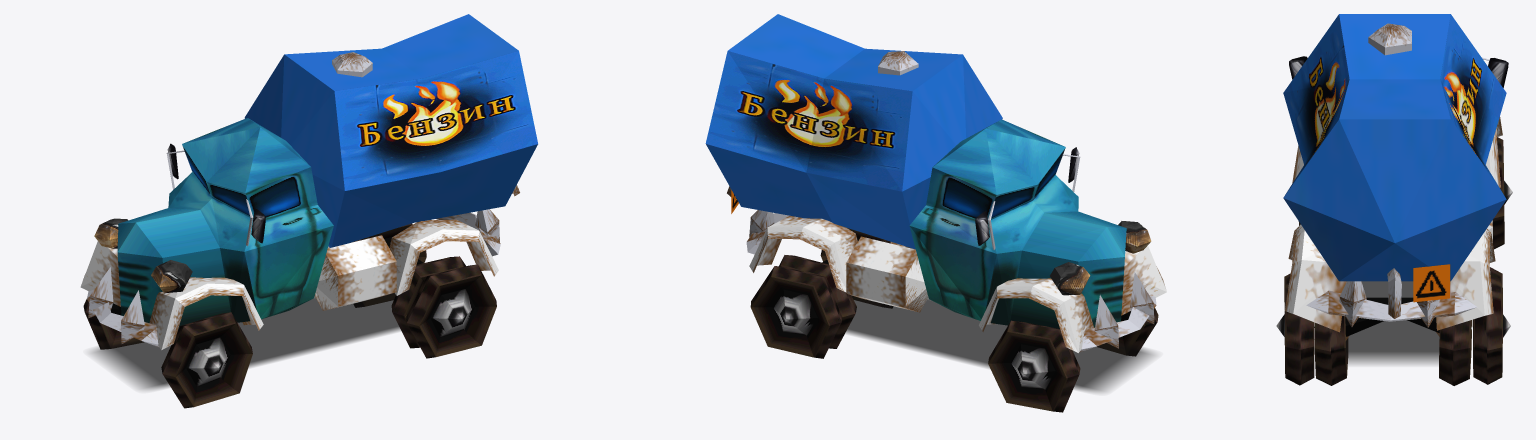
Rendered from LKW_gas_1_new [Copy 1]_2827.glb.
3 renders of one model, left to right at view 1: azimuth 30°, elevation 25°; view 2: azimuth 150°, elevation 25°; view 3: azimuth 270°, elevation 25°, orthographic. The views are drawn at different scales.
Visible parts, largest first — view 1: pCylinderShape9, polySurfaceShape52, pPlaneShape5, pPlaneShape11, vrlShape, hrlShape, polySurfaceShape45, pCylinderShape5, pPlaneShape3, pPlaneShape1, hrl2Shape, pPlaneShape2 (+9 smaller); view 2: pCylinderShape9, polySurfaceShape52, pPlaneShape6, pPlaneShape11, vrrShape, hrrShape, polySurfaceShape53, pCylinderShape4, pPlaneShape4, pPlaneShape2, pPlaneShape1, hrr2Shape (+7 smaller); view 3: pCylinderShape9, pPlaneShape6, pPlaneShape5, pPlaneShape11, pPlaneShape3, pPlaneShape4, hrrShape, pCylinderShape6, hrlShape, hrr2Shape, hrl2Shape, pPlaneShape7 (+9 smaller).
Boxes of the visible parts, <box> form: pCylinderShape9: <box>244,14,537,247</box>; polySurfaceShape52: <box>117,118,333,329</box>; pPlaneShape5: <box>334,51,537,190</box>; pPlaneShape11: <box>90,293,401,389</box>; vrlShape: <box>161,312,252,408</box>; hrlShape: <box>406,264,496,358</box>; polySurfaceShape45: <box>245,173,316,299</box>; pCylinderShape5: <box>314,235,396,310</box>; pPlaneShape3: <box>389,219,498,295</box>; pPlaneShape1: <box>149,277,263,350</box>; hrl2Shape: <box>391,256,465,348</box>; pPlaneShape2: <box>80,241,120,306</box>; pCylinderShape9: <box>706,14,1002,249</box>; polySurfaceShape52: <box>909,119,1126,328</box>; pPlaneShape6: <box>705,51,912,191</box>; pPlaneShape11: <box>842,295,1155,392</box>; vrrShape: <box>988,320,1080,412</box>; hrrShape: <box>750,266,841,358</box>; polySurfaceShape53: <box>928,174,996,301</box>; pCylinderShape4: <box>846,236,928,312</box>; pPlaneShape4: <box>749,215,857,292</box>; pPlaneShape2: <box>979,278,1093,352</box>; pPlaneShape1: <box>1121,245,1166,315</box>; hrr2Shape: <box>779,255,856,348</box>; pCylinderShape9: <box>1283,14,1506,281</box>; pPlaneShape6: <box>1440,14,1506,197</box>; pPlaneShape5: <box>1283,14,1349,194</box>; pPlaneShape11: <box>1345,281,1439,364</box>; pPlaneShape3: <box>1284,224,1346,332</box>; pPlaneShape4: <box>1436,228,1495,330</box>; hrrShape: <box>1473,267,1510,384</box>; pCylinderShape6: <box>1306,290,1477,321</box>; hrlShape: <box>1276,273,1314,385</box>; hrr2Shape: <box>1436,320,1472,385</box>; hrl2Shape: <box>1314,316,1349,385</box>; pPlaneShape7: <box>1413,264,1450,302</box>.
Size of the model in its own units: 0.86 by 0.4825 by 0.3584.
41 materials, 34 textured.
